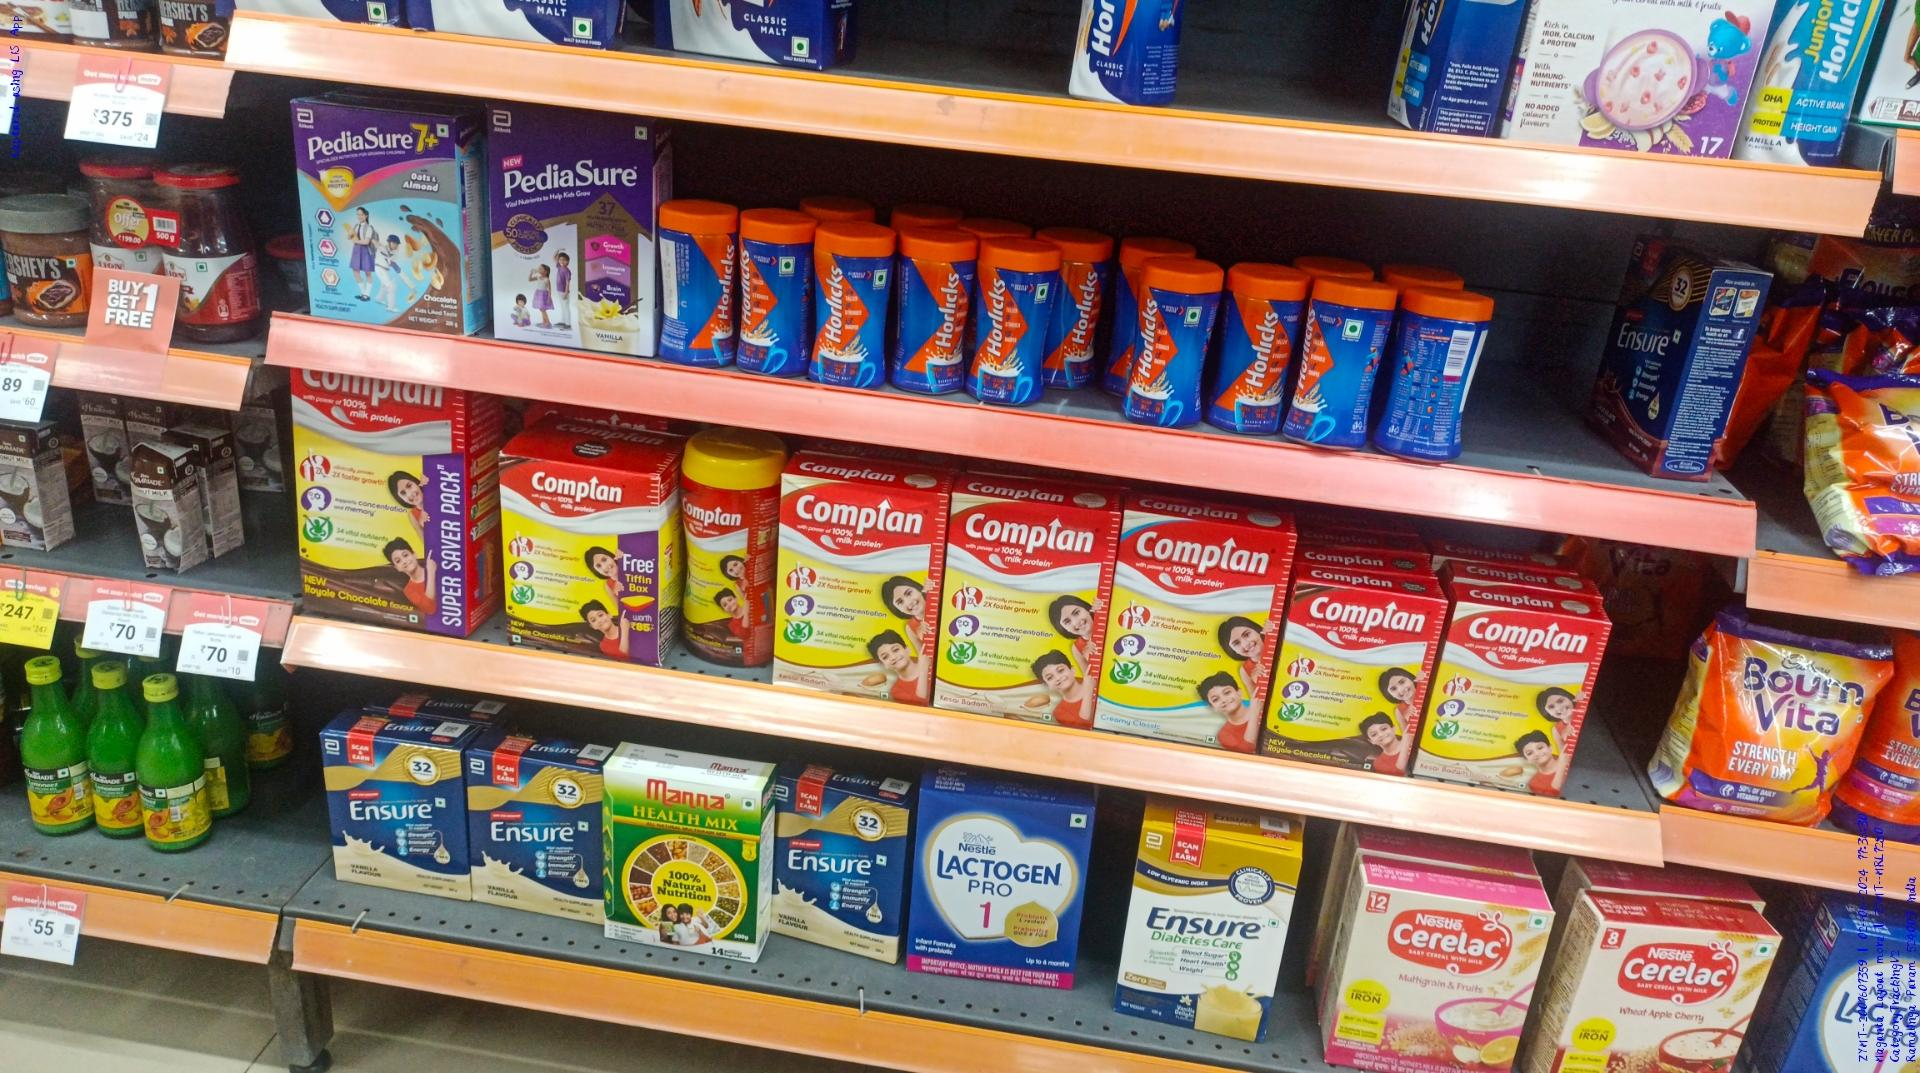ENSURE_VANILLA_400_G_PACK: (320, 732, 460, 899), (469, 753, 604, 925)
PEDIASURE_7_PLUS_CHOCOLATE_400_G_PACK: (290, 100, 465, 337)
PEDIASURE_VANILLA_500_G_PACK: (489, 104, 658, 357)
